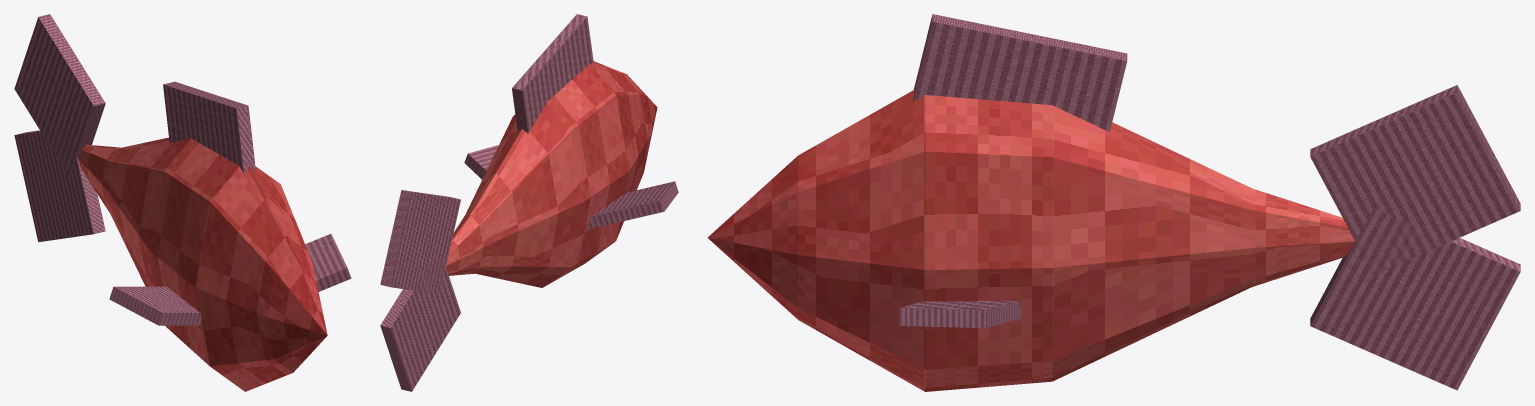
Rendered from piranha.glb.
3 views of the same model, side by side, from view 1: azimuth 30°, elevation 25°; view 2: azimuth 150°, elevation 25°; view 3: azimuth 270°, elevation 25° (orthographic). The views are drawn at different scales.
Parts seen in each view (by area): view 1: piranha; view 2: piranha; view 3: piranha.
Boxes of the visible parts, bbox=[...] form: piranha: bbox=[14, 14, 351, 391]; piranha: bbox=[380, 14, 678, 391]; piranha: bbox=[707, 14, 1520, 391].
Bounding box in the file's own units: 0.3422 × 0.4093 × 0.8063.
1 material, 1 textured.
